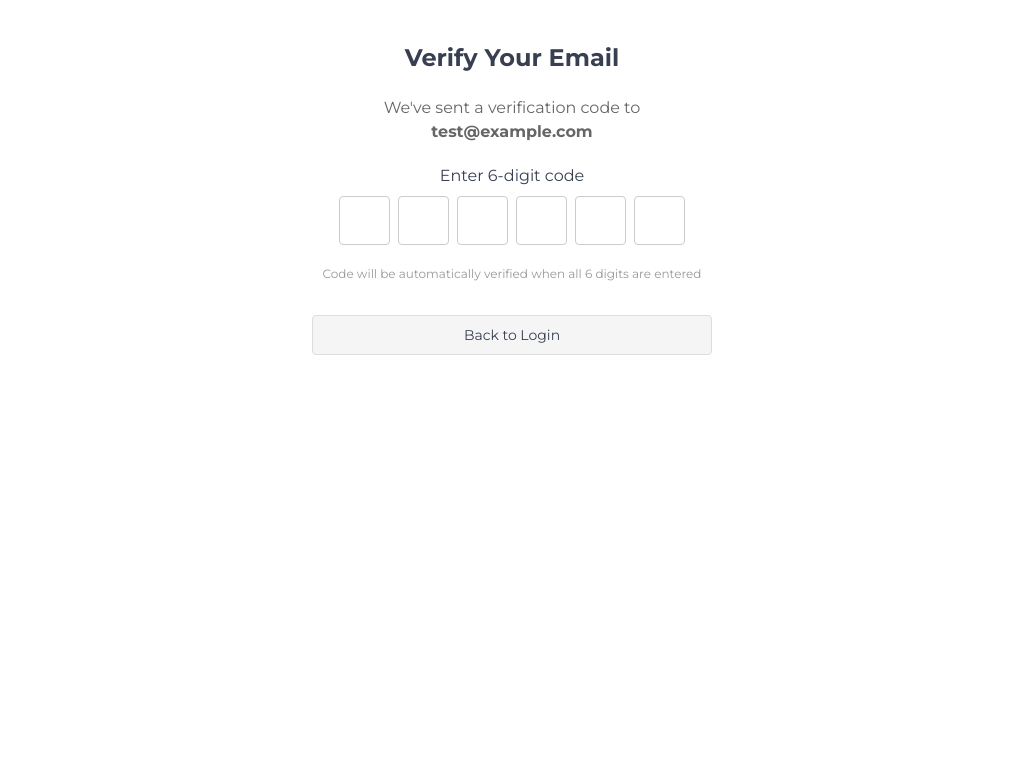
Test: EmailVerificationPage › Loading state › should show loading overlay during verification
Type "0" into the 1st field at (364, 220), box [339, 196, 390, 245]
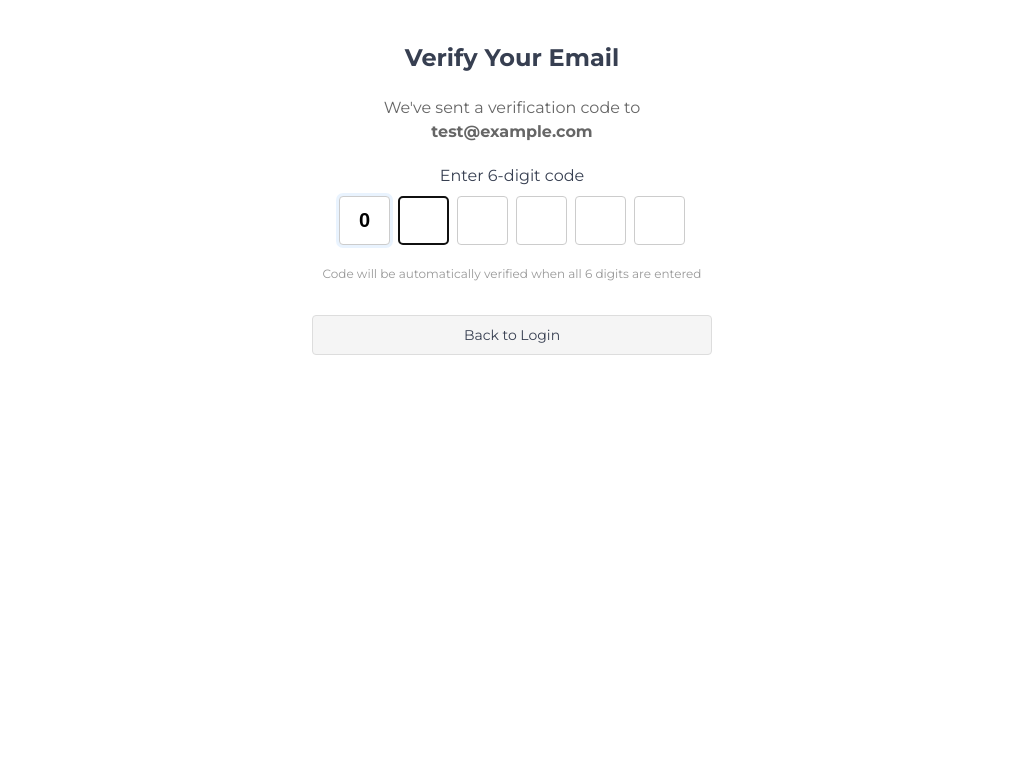
Type "1" into the 2nd field at (424, 220), box [398, 196, 449, 245]
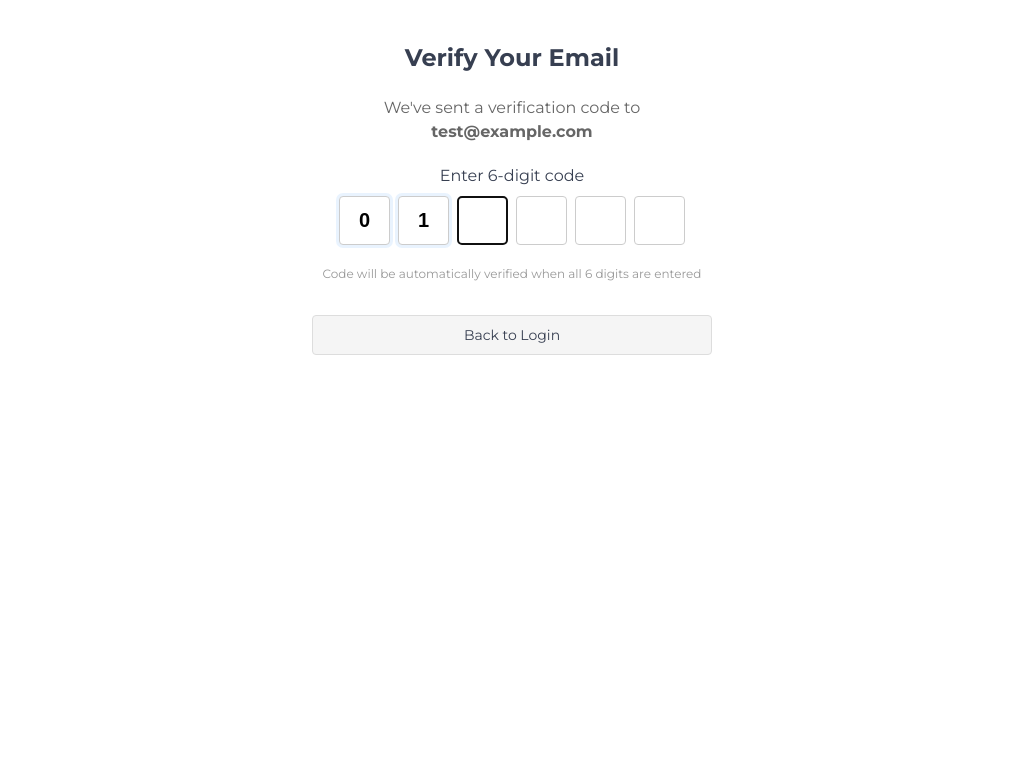
Type "2" into the 3rd field at (482, 220), box [457, 196, 508, 245]
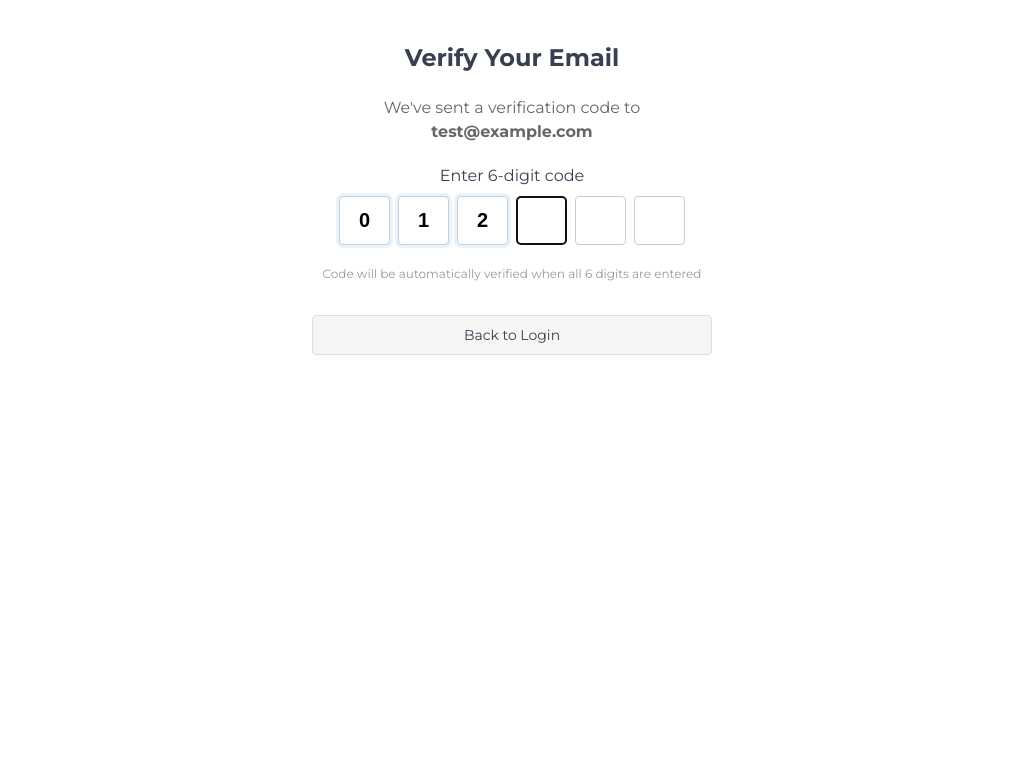
Type "3" into the 4th field at (542, 220), box [516, 196, 567, 245]
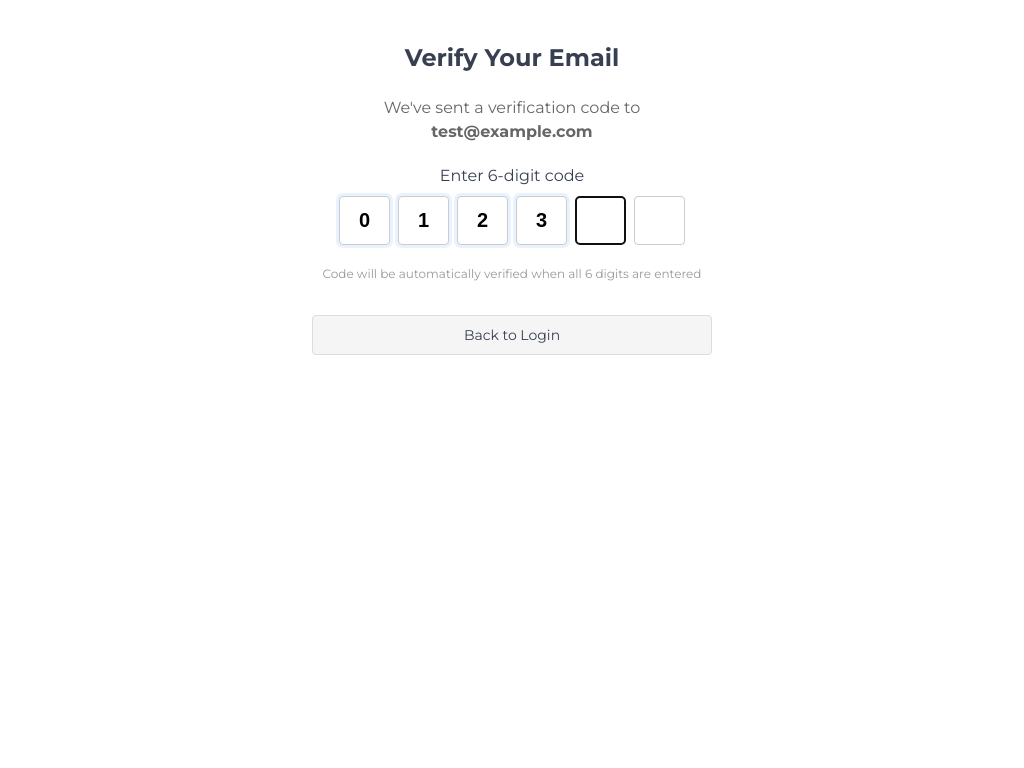
Type "4" into the 5th field at (600, 220), box [575, 196, 626, 245]
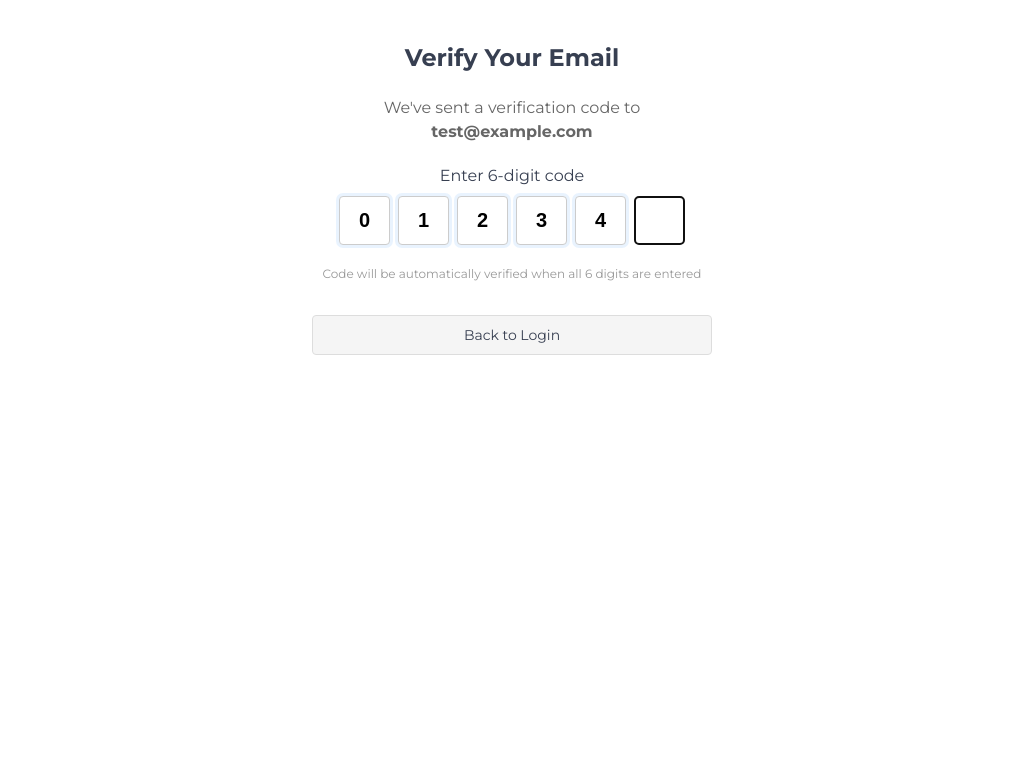
Type "5" into the 6th field at (660, 220), box [634, 196, 685, 245]
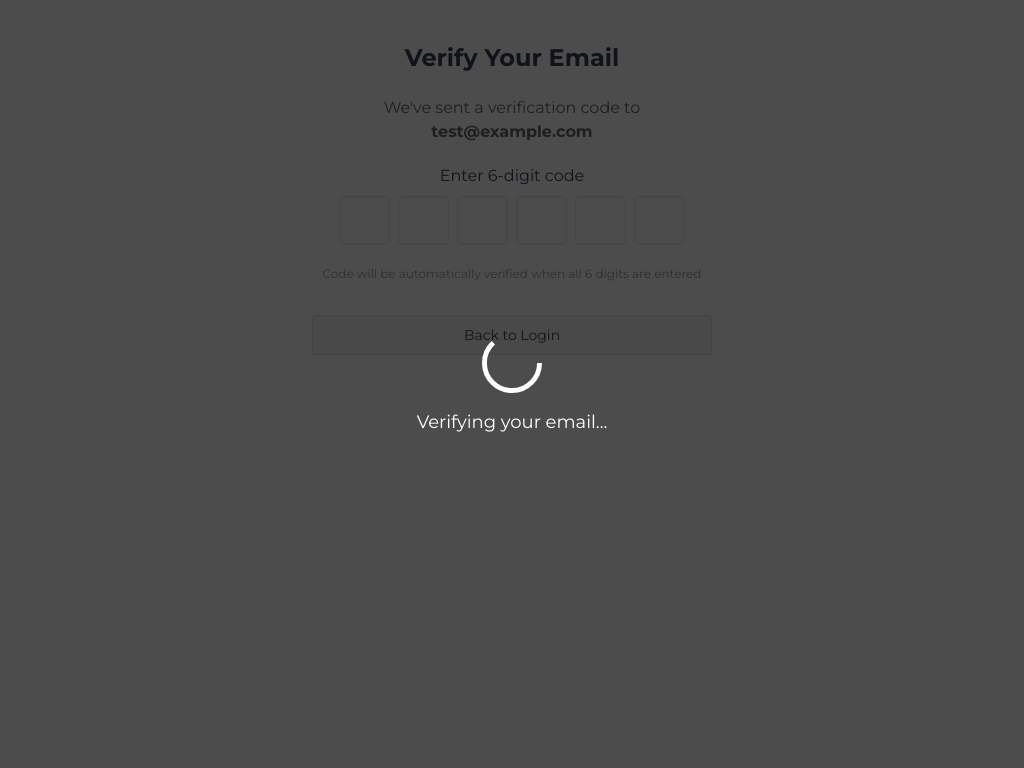
Result: the text "Verifying your email..." is shown at [417, 408, 607, 436]
